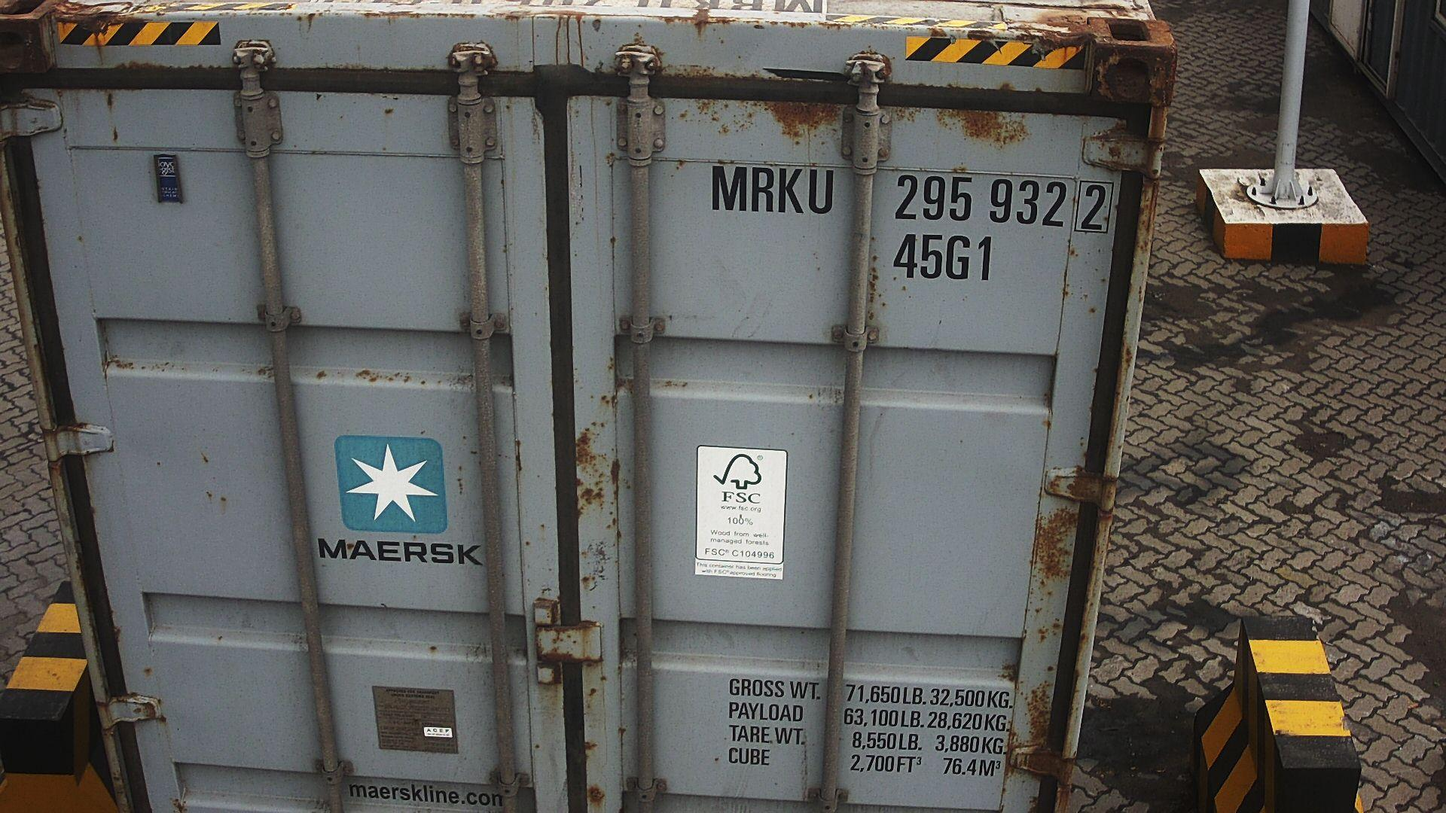container-numbers: (703, 164, 1121, 234), (892, 230, 1000, 285)
